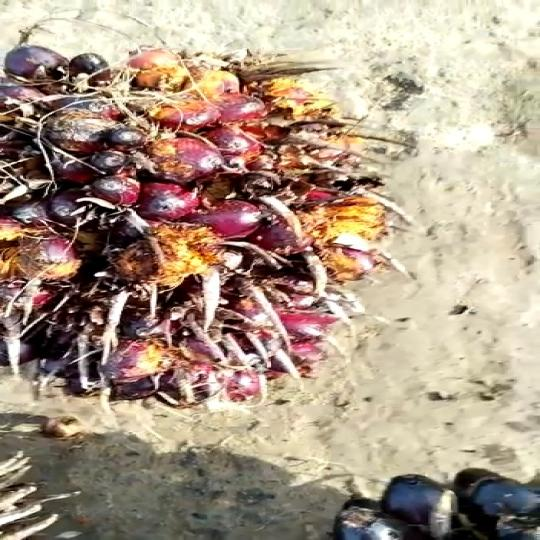masak: (0, 46, 389, 411)
